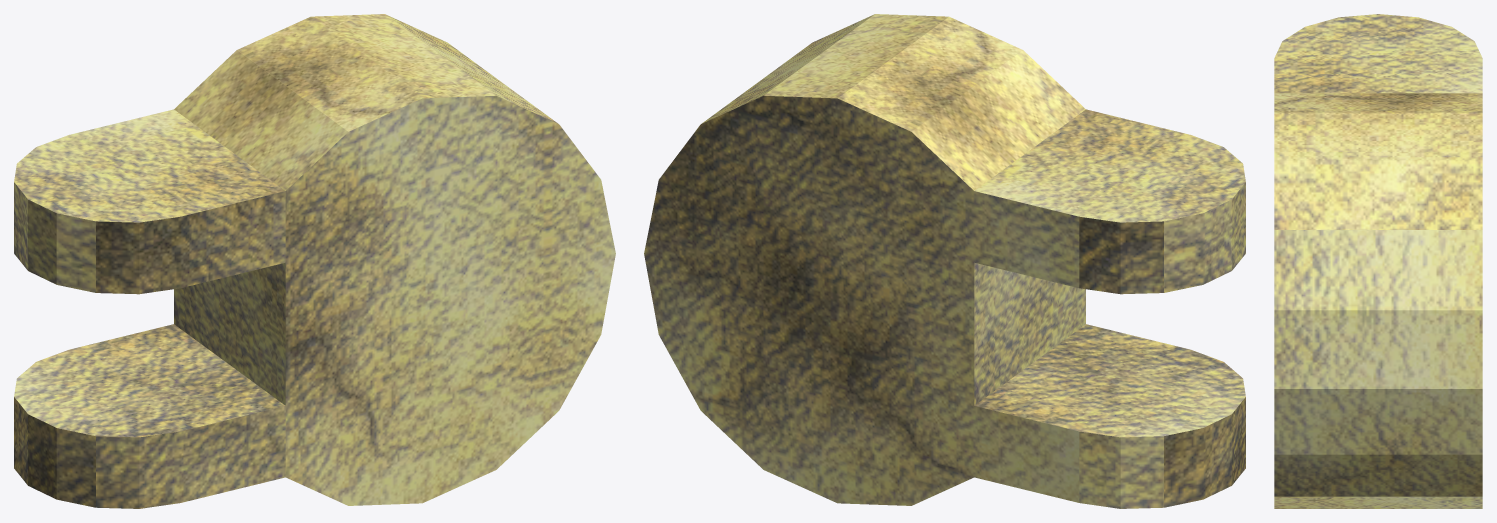
File: sternum_front.dae
The picture shows the model from 3 angles, left to right: view 1: azimuth 30°, elevation 25°; view 2: azimuth 150°, elevation 25°; view 3: azimuth 270°, elevation 25°; orthographic projection. The views are drawn at different scales.
Parts seen in each view (by area): view 1: Body_Center_Front; view 2: Body_Center_Front; view 3: Body_Center_Front.
Boxes of the visible parts, x1,y1,x2,y2 form: Body_Center_Front: [14, 14, 615, 508]; Body_Center_Front: [644, 14, 1245, 508]; Body_Center_Front: [1274, 14, 1482, 508].
Bounding box in the file's own units: 0.44 × 0.16 × 0.32.
1 material, 1 textured.
